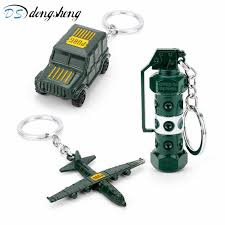e1: (141, 48, 206, 172)
